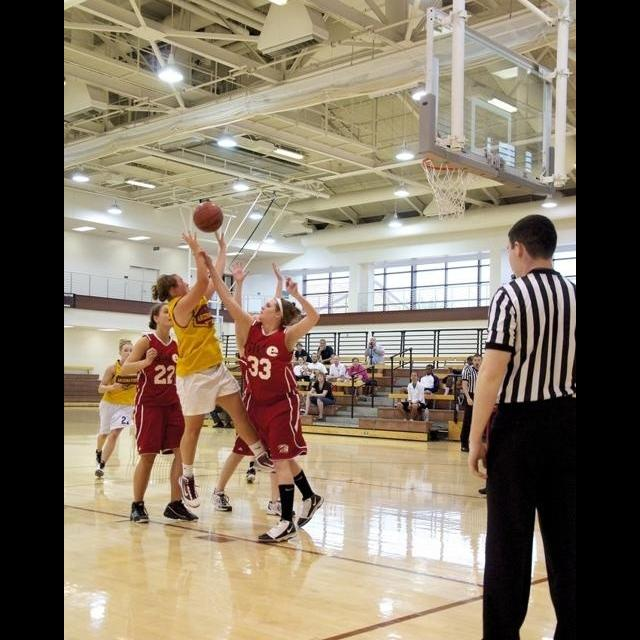basketball: (195, 198, 224, 233)
hoop: (413, 154, 476, 222)
